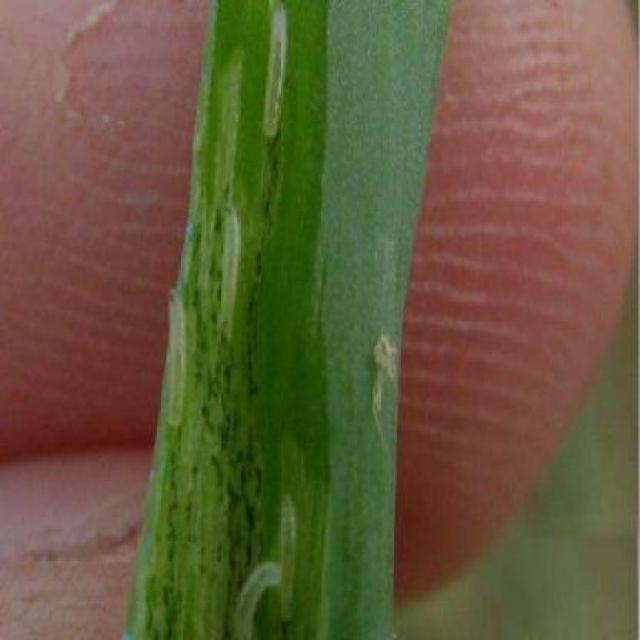whorl-maggot: (159, 277, 190, 428), (260, 0, 292, 142), (234, 554, 284, 640), (214, 201, 241, 345), (277, 488, 305, 624)
